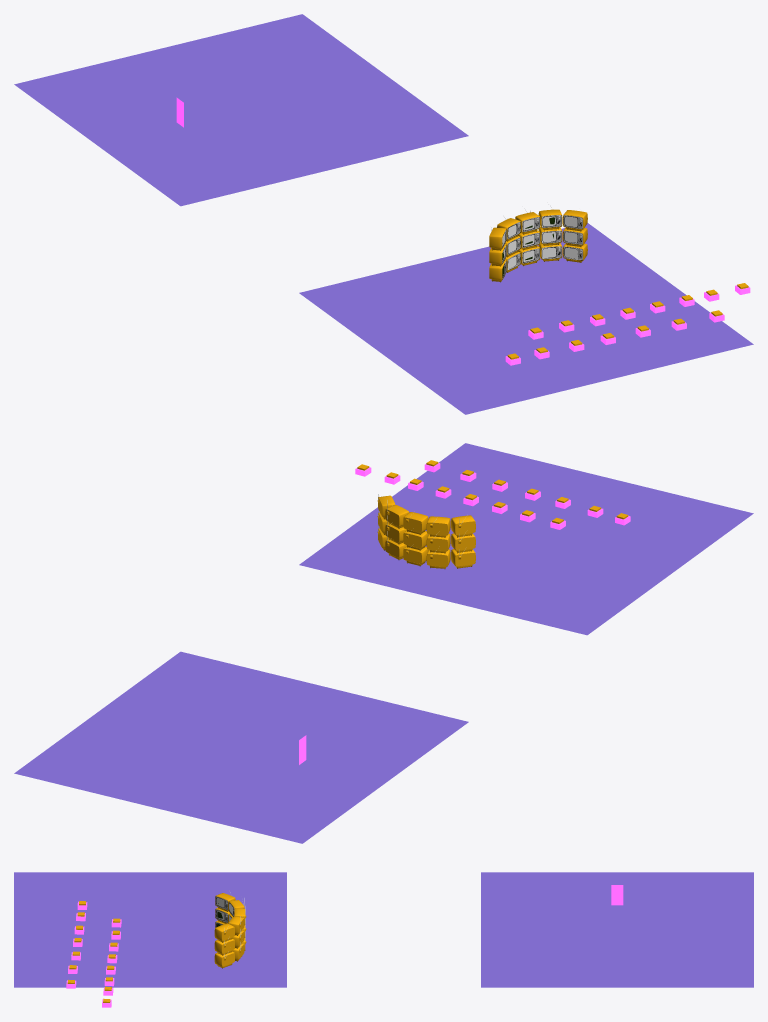
File: world.glb
3 views of the same model, one above another, from view 1: azimuth 30°, elevation 25°; view 2: azimuth 150°, elevation 25°; view 3: azimuth 270°, elevation 25° (orthographic). The views are drawn at different scales.
Visible parts, largest first — view 1: Plane, Floor2; view 2: Plane, Floor2; view 3: Plane, Floor2, Retro_TV.015, PORTAL, Retro_TV.014, Retro_TV.013.
Boxes of the visible parts, box(x1,y1,x2,y2) form: Plane: box(14, 14, 468, 206); Floor2: box(299, 223, 753, 414); Plane: box(14, 651, 468, 843); Floor2: box(299, 443, 753, 635); Plane: box(481, 872, 753, 987); Floor2: box(14, 872, 286, 987); Retro_TV.015: box(214, 923, 234, 942); PORTAL: box(611, 885, 623, 905); Retro_TV.014: box(214, 938, 234, 955); Retro_TV.013: box(214, 951, 234, 968).
Bounding box in the file's own units: 688 × 118 × 1585.
